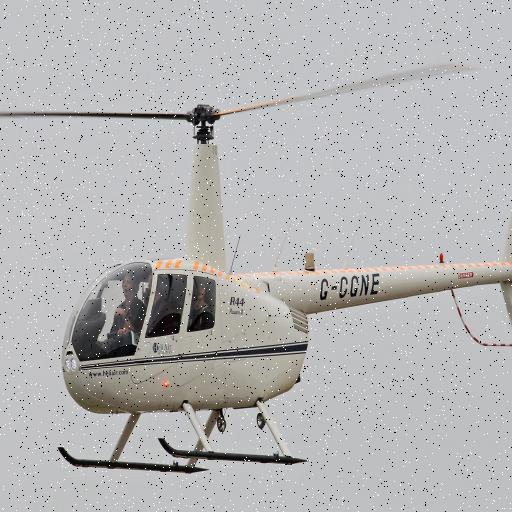helicopter: (1, 58, 512, 477)
